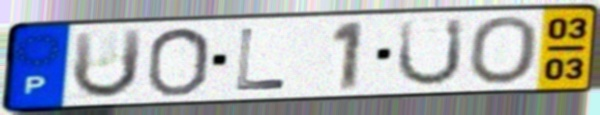1: (329, 18, 367, 93)
L: (233, 26, 290, 93)
O: (464, 13, 542, 87), (142, 25, 215, 99)
U: (68, 26, 147, 102), (393, 15, 468, 89)
